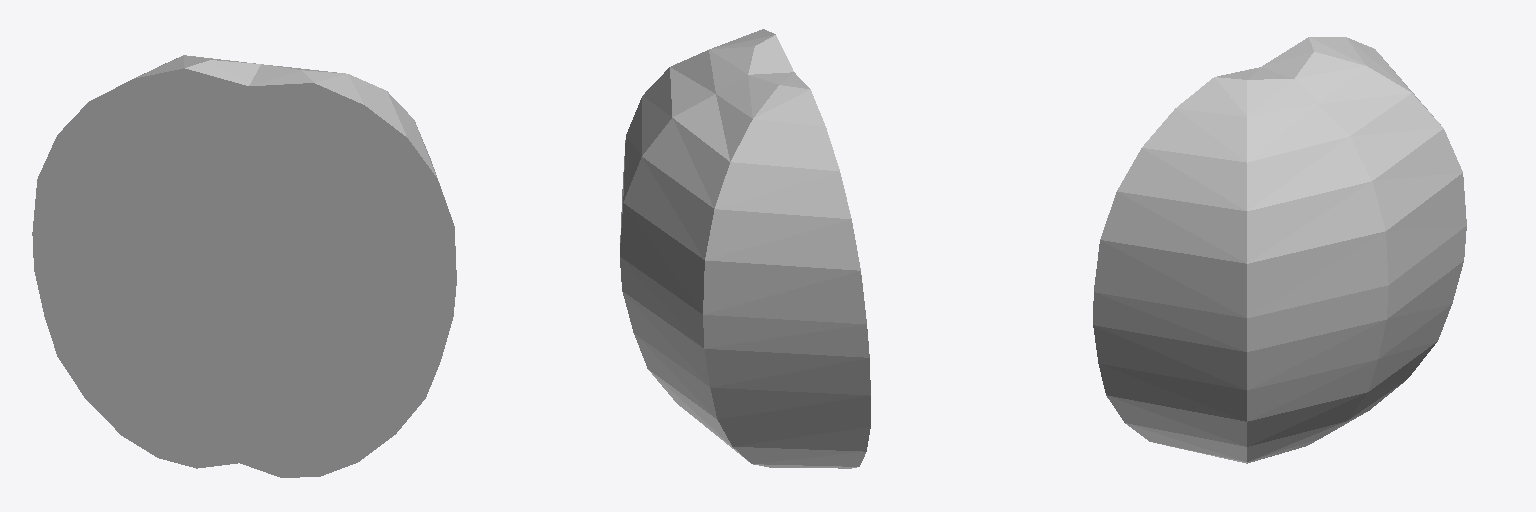
The model's file is Apple-C.obj.
3 renders of one model, left to right at view 1: azimuth 30°, elevation 25°; view 2: azimuth 150°, elevation 25°; view 3: azimuth 270°, elevation 25°, orthographic.
Parts seen in each view (by area): view 1: Cube.005; view 2: Cube.005; view 3: Cube.005.
Part boxes in pixels (x1,y1,x2,y2): Cube.005: (32, 55, 456, 477); Cube.005: (620, 29, 870, 468); Cube.005: (1093, 37, 1466, 463).
Size of the model in its own units: 0.3134 by 0.3536 by 0.3134.